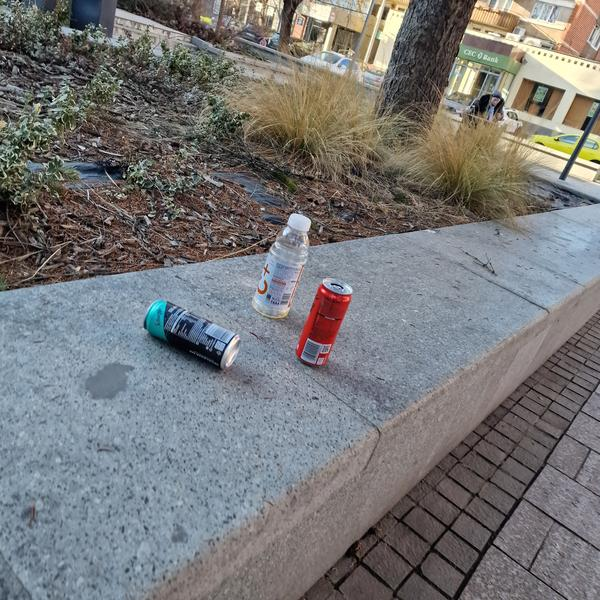can: (138, 293, 247, 374), (291, 273, 357, 372)
plastic_bottle: (249, 208, 320, 324)
